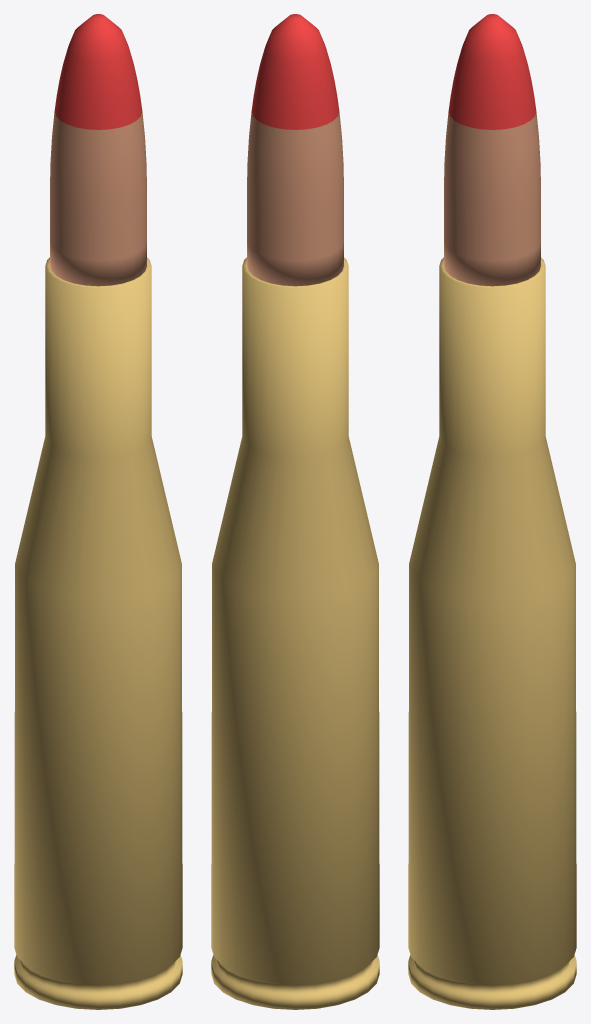
3 views of the same model, side by side, from view 1: azimuth 30°, elevation 25°; view 2: azimuth 150°, elevation 25°; view 3: azimuth 270°, elevation 25° (orthographic).
Visible parts, largest first — view 1: vaina, bala_cuerpo, punta; view 2: vaina, bala_cuerpo, punta; view 3: vaina, bala_cuerpo, punta.
Part boxes in pixels (x1,y1,x2,y2): vaina: [14, 257, 182, 1009]; bala_cuerpo: [50, 112, 146, 286]; punta: [54, 14, 142, 129]; vaina: [211, 257, 379, 1009]; bala_cuerpo: [247, 112, 343, 286]; punta: [251, 14, 339, 129]; vaina: [408, 257, 576, 1009]; bala_cuerpo: [444, 112, 540, 286]; punta: [448, 14, 536, 129].
Bounding box in the file's own units: 0.0149 × 0.0935 × 0.0149.
